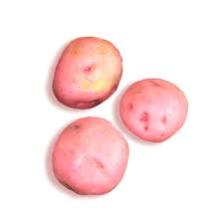Defected potato: (51, 115, 130, 196), (51, 36, 124, 112), (118, 77, 190, 144)
